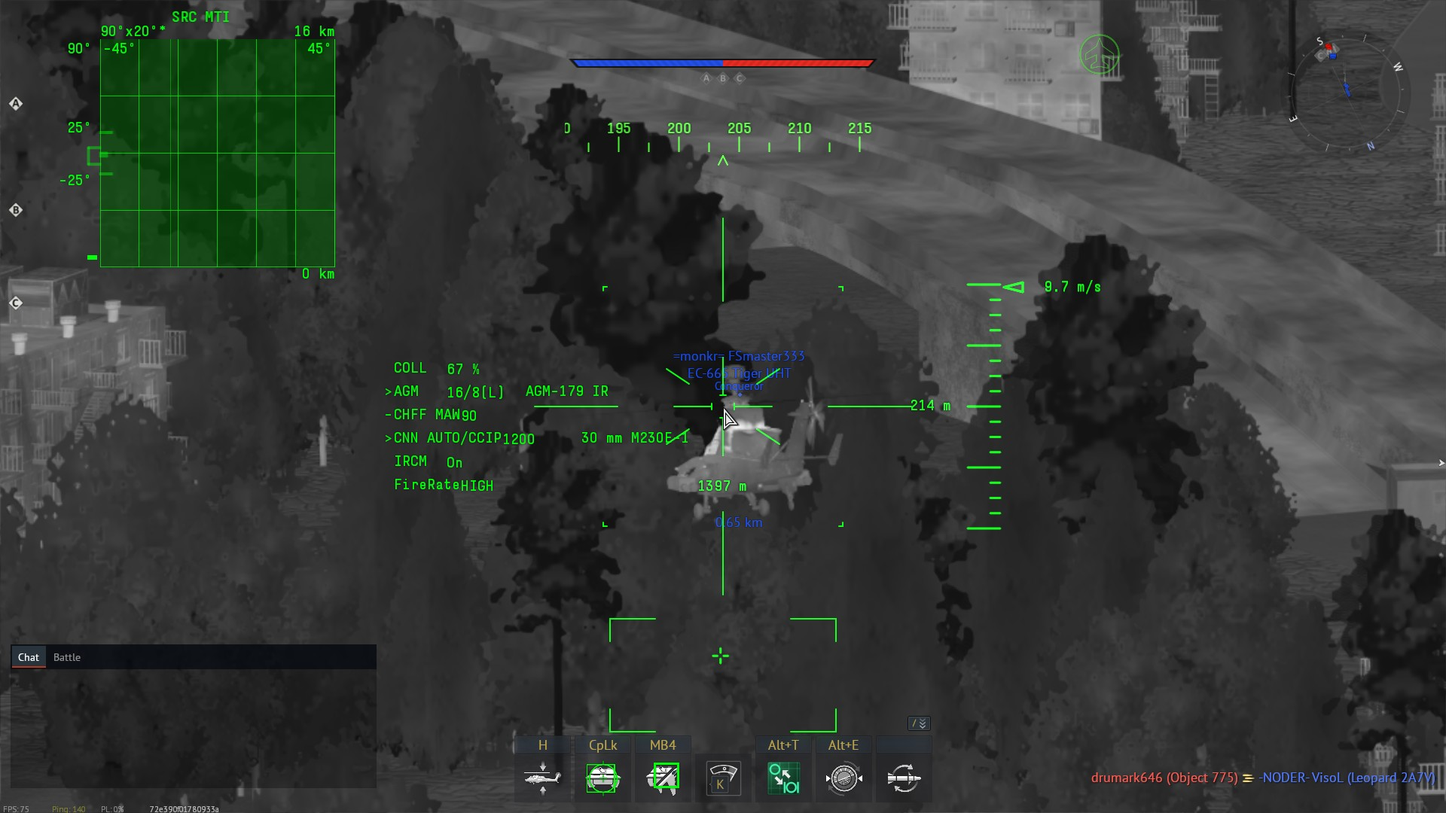ec665: (658, 360, 847, 521)
